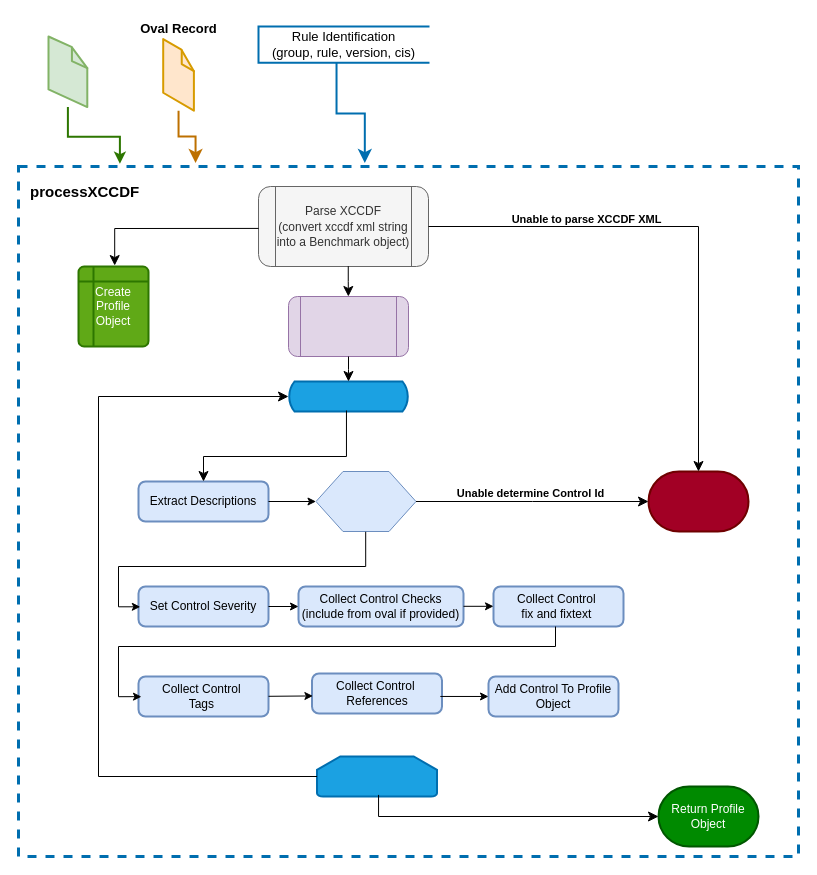
This 817x875 diagram has some shape labels left out. Each missing label, with the centre of its shape:
"Derive Control Identification to use" goes at [365,501].
"End Loop" goes at [377,776].
"Extract all Rules" goes at [348,326].
"Loop each Rule" goes at [348,396].
"Termonate Process with Exception" goes at [698,501].
"XCCDF String" goes at [67,71].
